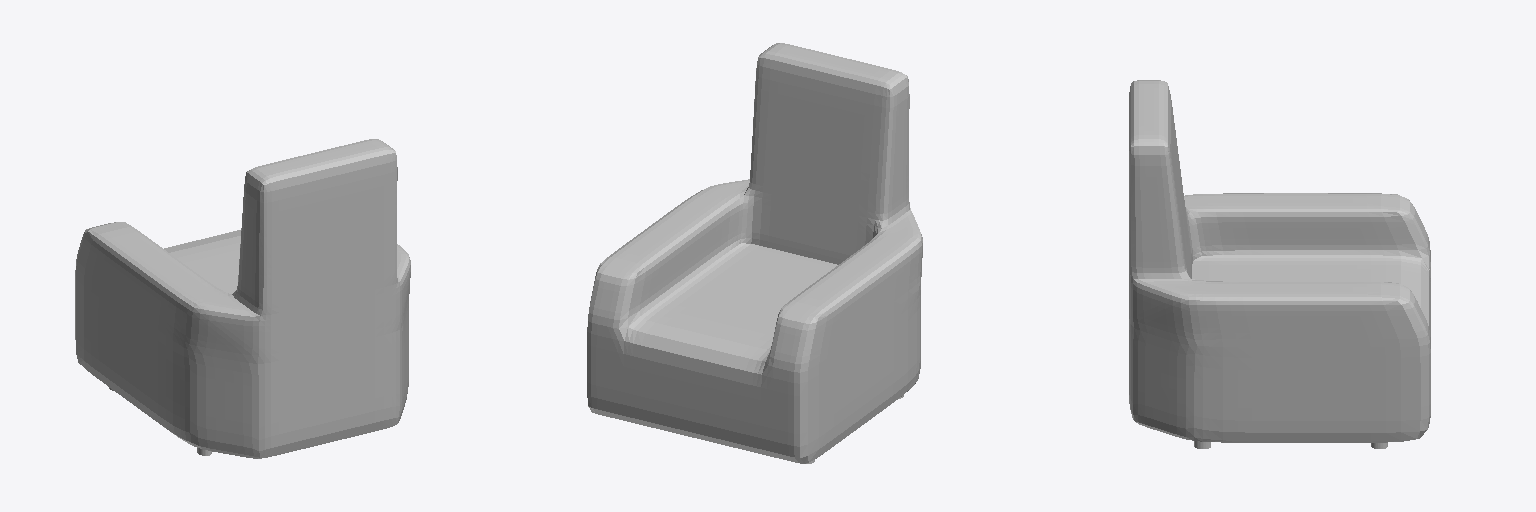
Rendered from N_sofa.obj.
3 views of the same model, side by side, from view 1: azimuth 30°, elevation 25°; view 2: azimuth 150°, elevation 25°; view 3: azimuth 270°, elevation 25° (orthographic).
Visible parts, largest first — view 1: Sofa; view 2: Sofa; view 3: Sofa.
Boxes of the visible parts, x1,y1,x2,y2 form: Sofa: [75, 139, 410, 458]; Sofa: [587, 43, 922, 463]; Sofa: [1129, 80, 1430, 448].
Size of the model in its own units: 1.47 by 1.84 by 1.72.